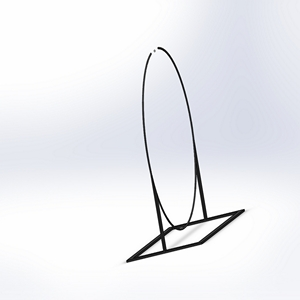circle: (123, 45, 247, 263)
